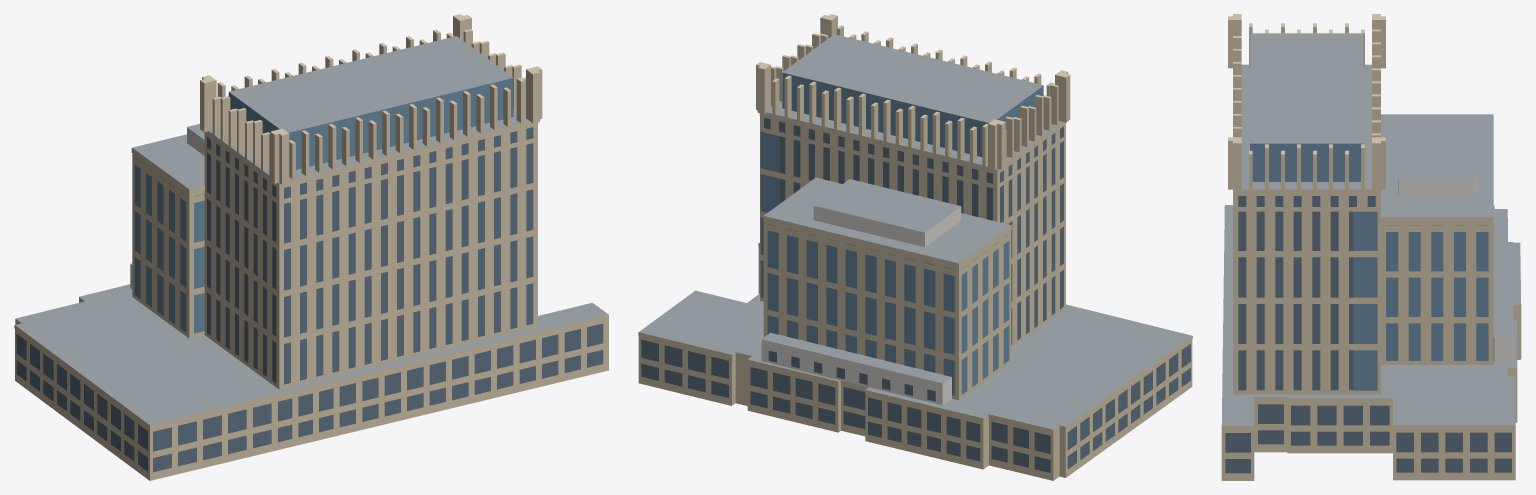
The model's file is ral-wake-county-justice-center.glb.
The picture shows the model from 3 angles, left to right: view 1: azimuth 30°, elevation 25°; view 2: azimuth 150°, elevation 25°; view 3: azimuth 270°, elevation 25°; orthographic projection. The views are drawn at different scales.
Parts seen in each view (by area): view 1: Wake County Justice Center; view 2: Wake County Justice Center; view 3: Wake County Justice Center.
Part boxes in pixels (x1,y1,x2,y2): Wake County Justice Center: (14,14,608,480); Wake County Justice Center: (638,14,1192,480); Wake County Justice Center: (1221,14,1521,480).
Size of the model in its own units: 121 by 78.3 by 69.2.
